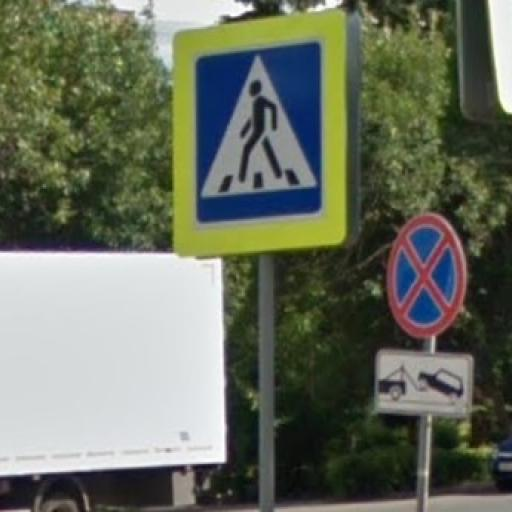traffic_sign: (172, 8, 350, 259), (387, 211, 467, 339)
